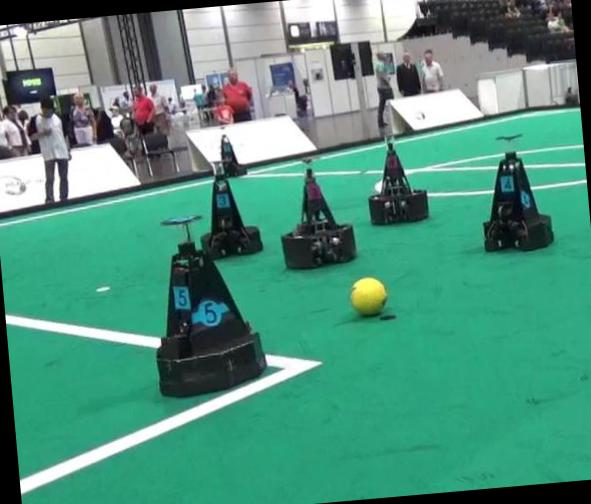ball: (349, 276, 386, 314)
robot: (156, 215, 265, 395), (281, 168, 354, 267), (482, 152, 552, 250), (368, 142, 427, 224), (207, 173, 261, 257), (220, 134, 246, 175)
